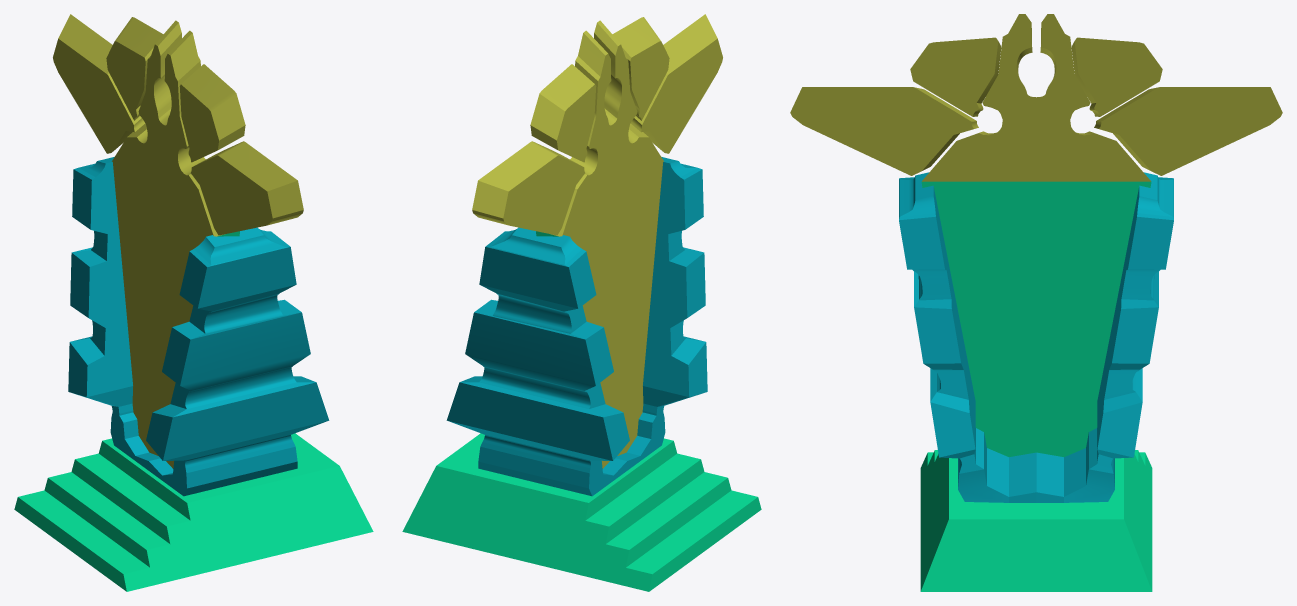
The model's file is AssemblyStaticMesh.fbx.
The picture shows the model from 3 angles, left to right: view 1: azimuth 30°, elevation 25°; view 2: azimuth 150°, elevation 25°; view 3: azimuth 270°, elevation 25°; orthographic projection. The views are drawn at different scales.
Parts seen in each view (by area): view 1: Station; view 2: Station; view 3: Station.
Boxes of the visible parts, <box> form: Station: <box>14,14,373,591</box>; Station: <box>402,14,761,591</box>; Station: <box>790,14,1282,591</box>.
Size of the model in its own units: 122 by 235 by 205.
